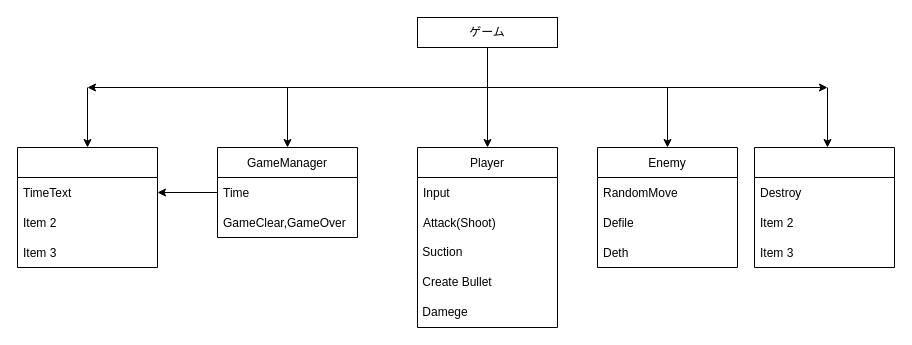
Image size: 912x345. Some labels were removed from this diagram. Each missing label, with the box of its shape:
Dirt: (754, 146, 894, 268)
Uimanager: (16, 146, 158, 268)
